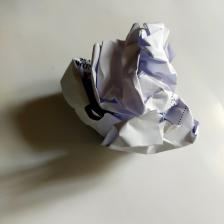Paper: (47, 16, 200, 164)
